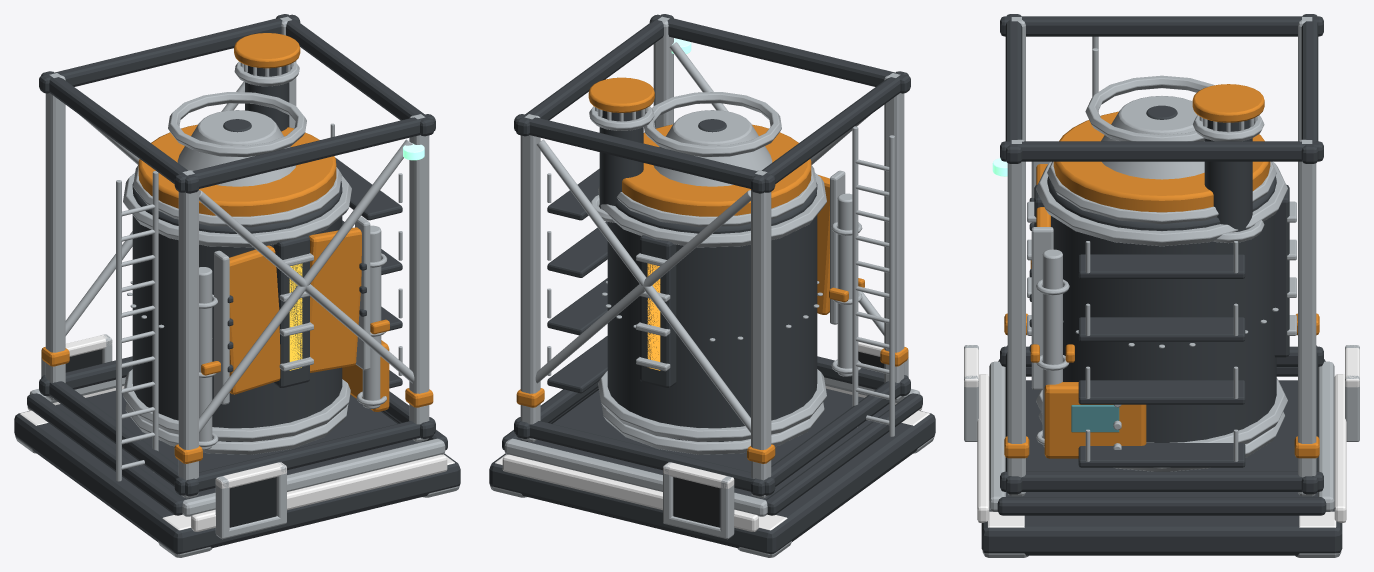
The model's file is smelter.glb.
The picture shows the model from 3 angles, left to right: view 1: azimuth 30°, elevation 25°; view 2: azimuth 150°, elevation 25°; view 3: azimuth 270°, elevation 25°; orthographic projection. The views are drawn at different scales.
Visible parts, largest first — view 1: Main_Body, Furnace_Glow_Mesh; view 2: Main_Body, Furnace_Glow.001_Mesh; view 3: Main_Body.
Part boxes in pixels (x1=…): Main_Body: x1=14, y1=14, x2=460, y2=557; Furnace_Glow_Mesh: x1=289, y1=263, x2=302, y2=370; Main_Body: x1=489, y1=14, x2=935, y2=557; Furnace_Glow.001_Mesh: x1=647, y1=263, x2=660, y2=370; Main_Body: x1=964, y1=14, x2=1359, y2=557.
Size of the model in its own units: 4.01 by 4.99 by 4.28.
